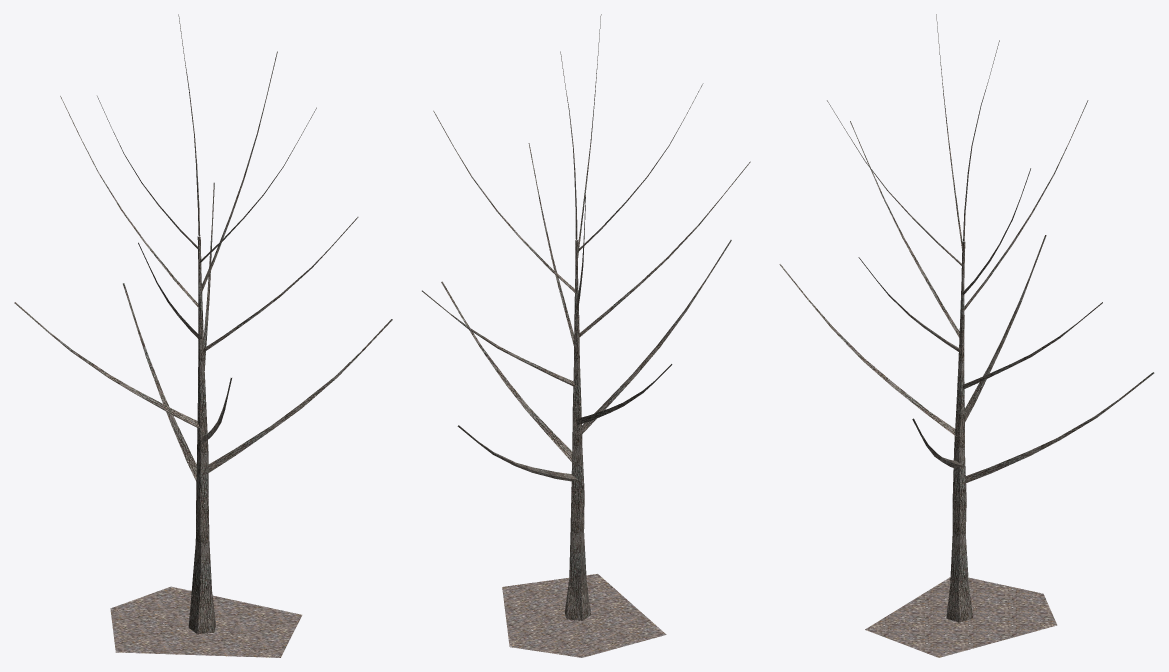
The model's file is sf_tree_1.glb.
3 renders of one model, left to right at view 1: azimuth 30°, elevation 25°; view 2: azimuth 150°, elevation 25°; view 3: azimuth 270°, elevation 25°, orthographic. The views are drawn at different scales.
Visible parts, largest first — view 1: Material2 (×2); view 2: Material2 (×2); view 3: Material2 (×2).
Part boxes in pixels (<box>): Material2 (×2): <box>14,14,392,657</box>; Material2 (×2): <box>422,14,750,657</box>; Material2 (×2): <box>779,14,1154,657</box>.
Bounding box in the file's own units: 3.54 × 6.6 × 3.89.
2 materials, 2 textured.
